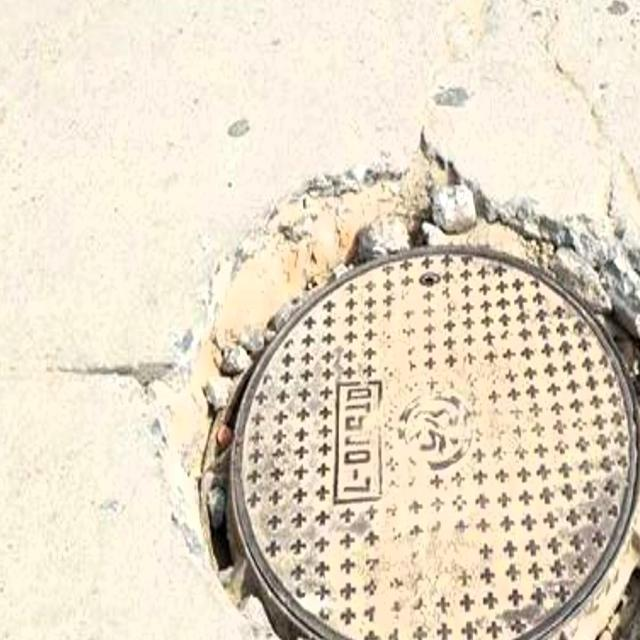circle: (128, 139, 640, 640)
